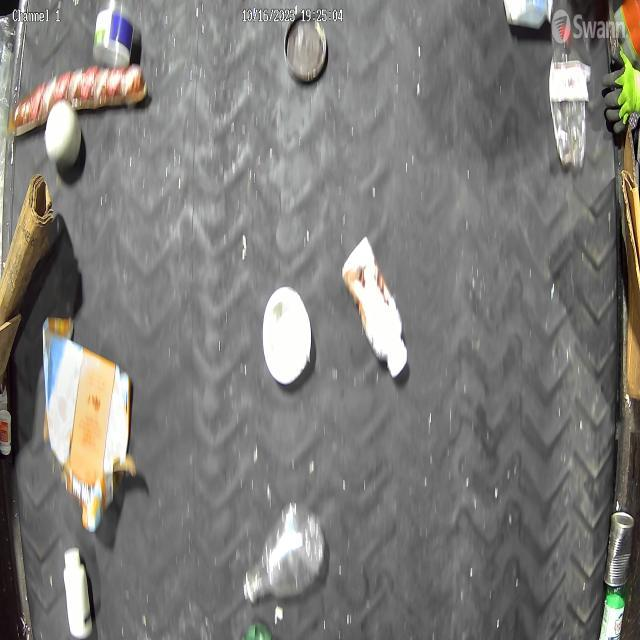can: (603, 510, 636, 587)
plastic_bottle: (548, 22, 587, 172)
